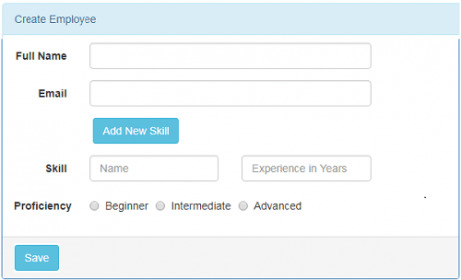_form_: (1, 1, 416, 280)
button: (92, 117, 180, 145), (14, 244, 61, 273), (236, 199, 249, 211), (89, 199, 100, 212), (156, 199, 167, 212)
field: (87, 41, 372, 70), (88, 79, 372, 107), (87, 153, 221, 183), (240, 154, 373, 183)
field_with_label: (16, 40, 374, 71), (39, 78, 375, 108), (46, 151, 223, 184)
radio_with_label: (154, 197, 230, 214), (233, 197, 301, 214), (86, 196, 148, 213)
